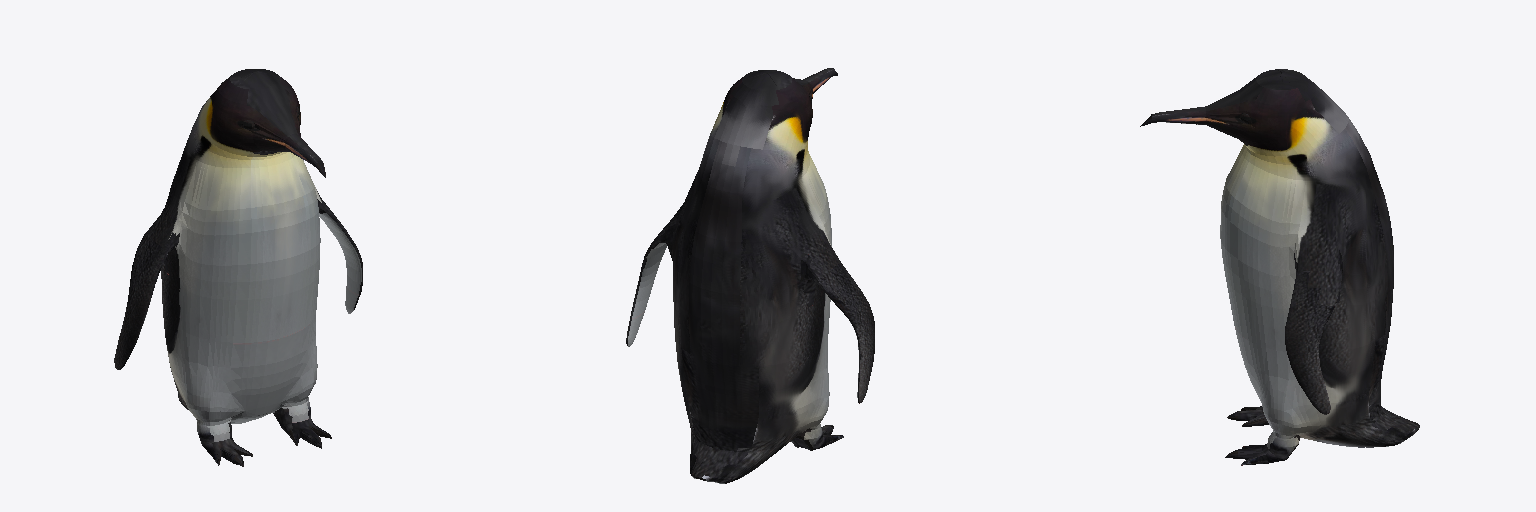
3 renders of one model, left to right at view 1: azimuth 30°, elevation 25°; view 2: azimuth 150°, elevation 25°; view 3: azimuth 270°, elevation 25°, orthographic.
Visible parts, largest first — view 1: penguin:pCylinder17; view 2: penguin:pCylinder17; view 3: penguin:pCylinder17.
Boxes of the visible parts, x1=… form: penguin:pCylinder17: x1=114, y1=69, x2=362, y2=466; penguin:pCylinder17: x1=626, y1=68, x2=874, y2=483; penguin:pCylinder17: x1=1140, y1=69, x2=1419, y2=465.
Size of the model in its own units: 5.9 by 8.78 by 6.07.
Materials: 1 (1 with a texture image).